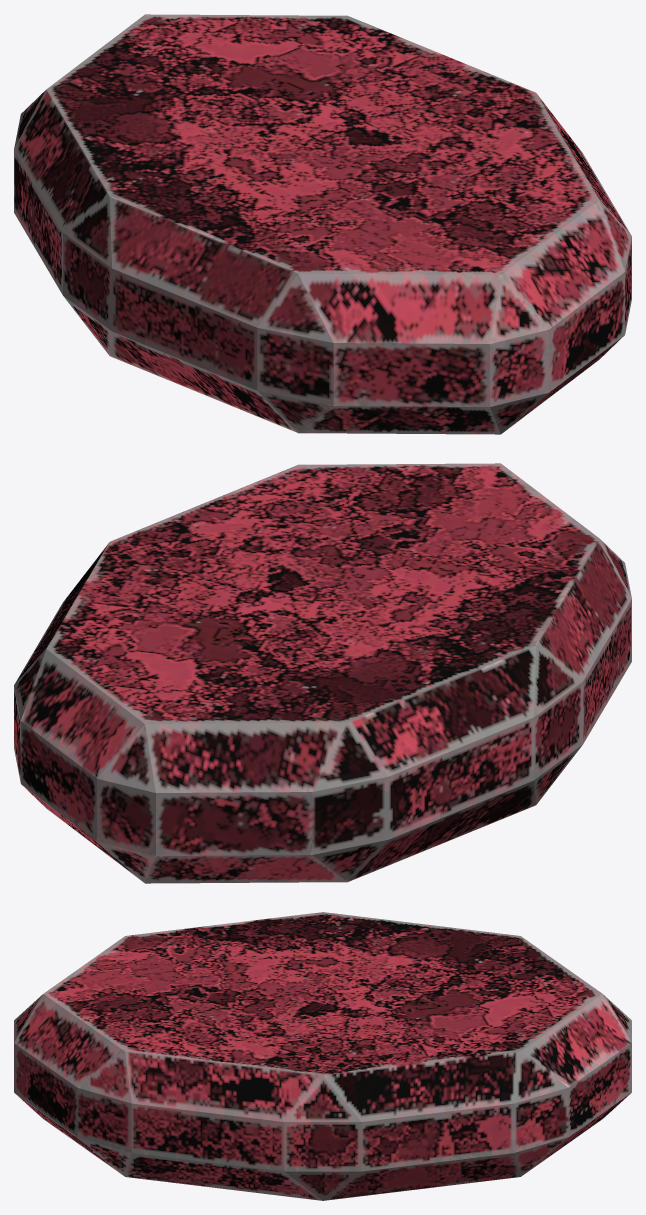
File: Ruby.glb
The picture shows the model from 3 angles, top to bottom: view 1: azimuth 30°, elevation 25°; view 2: azimuth 150°, elevation 25°; view 3: azimuth 270°, elevation 25°; orthographic projection. The views are drawn at different scales.
Parts seen in each view (by area): view 1: Ruby; view 2: Ruby; view 3: Ruby.
Boxes of the visible parts, x1,y1,x2,y2 form: Ruby: (14,14,631,434); Ruby: (14,463,631,883); Ruby: (14,912,631,1200).
Bounding box in the file's own units: 0.2413 × 0.0781 × 0.3488.
Materials: 1 (1 with a texture image).
